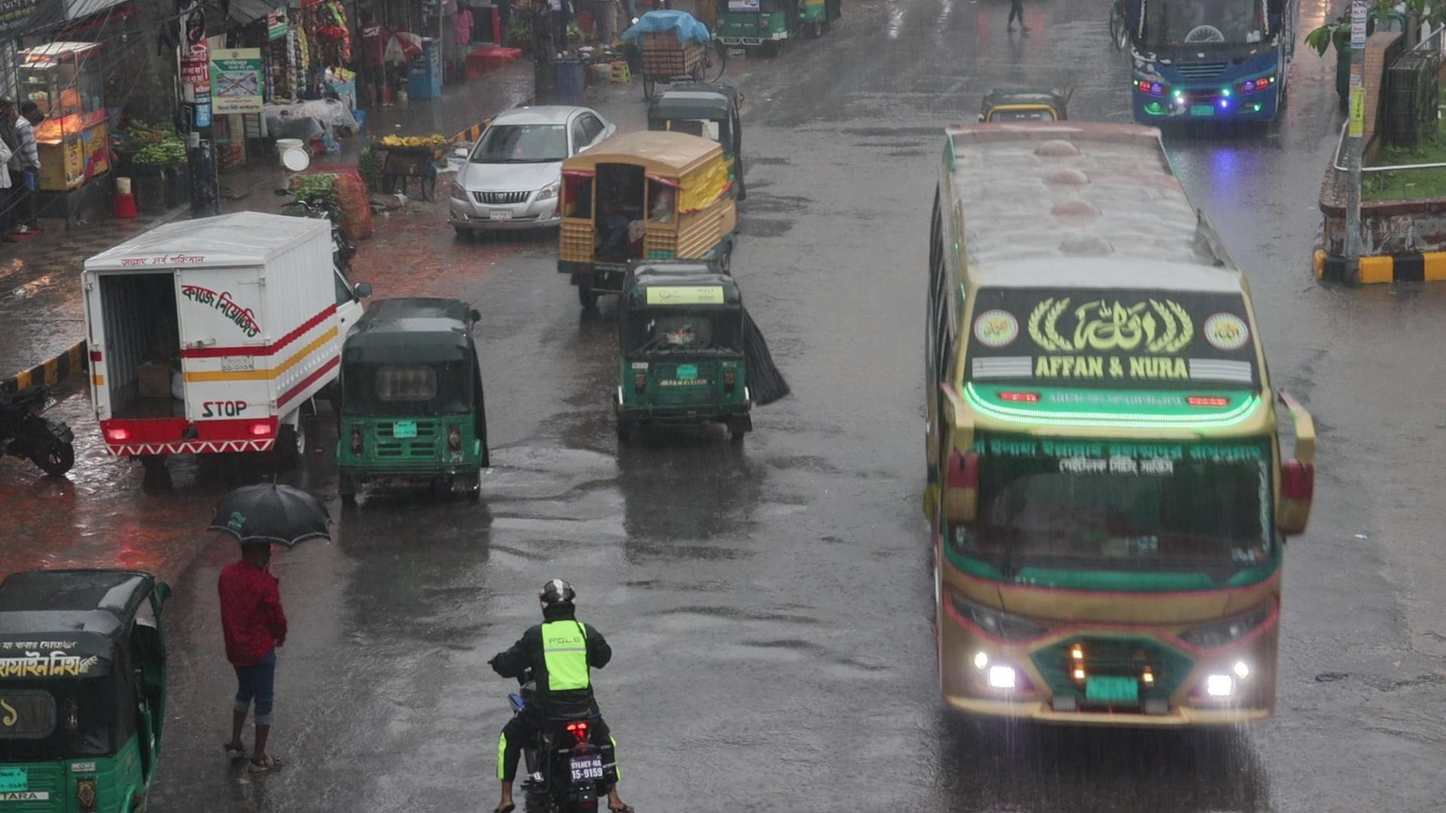Bike: (487, 578, 635, 813)
Bus: (922, 121, 1317, 759)
Truck: (555, 129, 739, 259)
